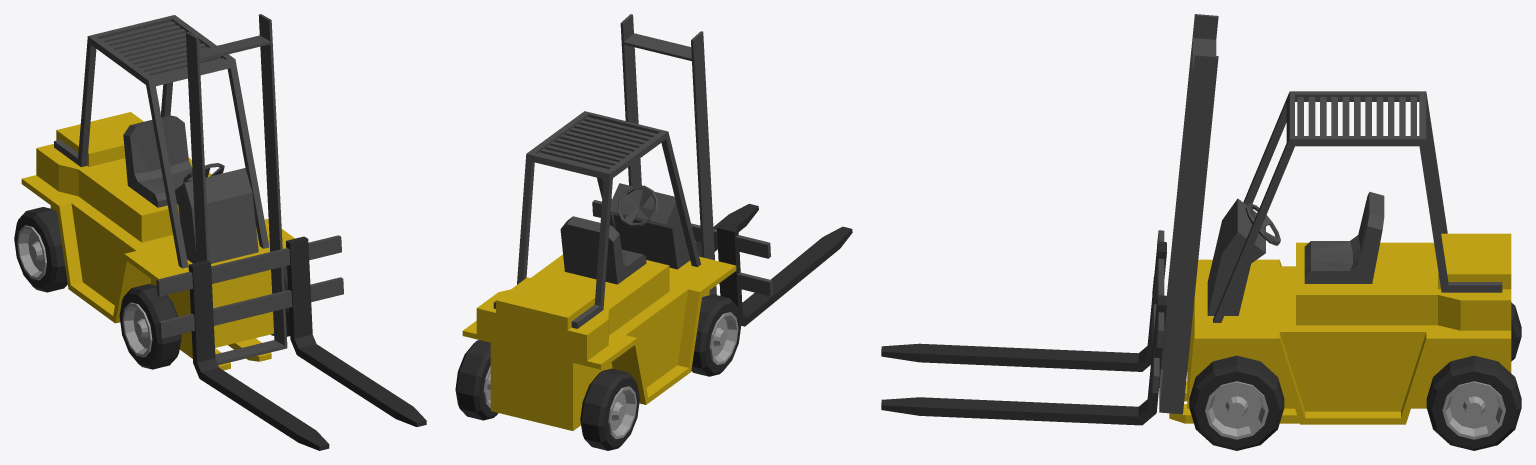
Rendered from Pallet_Trucks.fbx.
3 views of the same model, side by side, from view 1: azimuth 30°, elevation 25°; view 2: azimuth 150°, elevation 25°; view 3: azimuth 270°, elevation 25° (orthographic). The views are drawn at different scales.
Visible parts, largest first — view 1: Pallet_Truck_01, Fork, Front_Right, Rear_Right, Pallet_Truck_02; view 2: Pallet_Truck_01, Fork, Rear_Right, Front_Right, Rear_Left; view 3: Pallet_Truck_01, Fork, Rear_Left, Front_Left.
Boxes of the visible parts, box(x1,y1,x2,y2) form: Pallet_Truck_01: box(21, 14, 294, 364); Fork: box(156, 235, 426, 450); Front_Right: box(119, 284, 181, 369); Rear_Right: box(14, 207, 67, 292); Pallet_Truck_02: box(179, 338, 271, 370); Pallet_Truck_01: box(462, 14, 736, 430); Fork: box(592, 200, 852, 326); Rear_Right: box(580, 368, 639, 450); Front_Right: box(691, 294, 741, 376); Rear_Left: box(455, 340, 498, 420); Pallet_Truck_01: box(1159, 14, 1511, 424); Fork: box(881, 230, 1166, 425); Rear_Left: box(1426, 355, 1521, 450); Front_Left: box(1189, 355, 1284, 450).
Bounding box in the file's own units: 150 × 262 × 405.
1 material, 1 textured.
